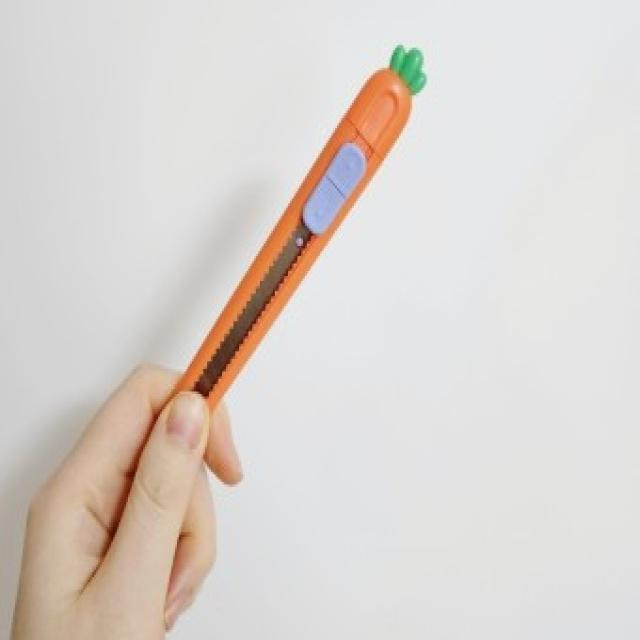cutter: (154, 29, 438, 428)
